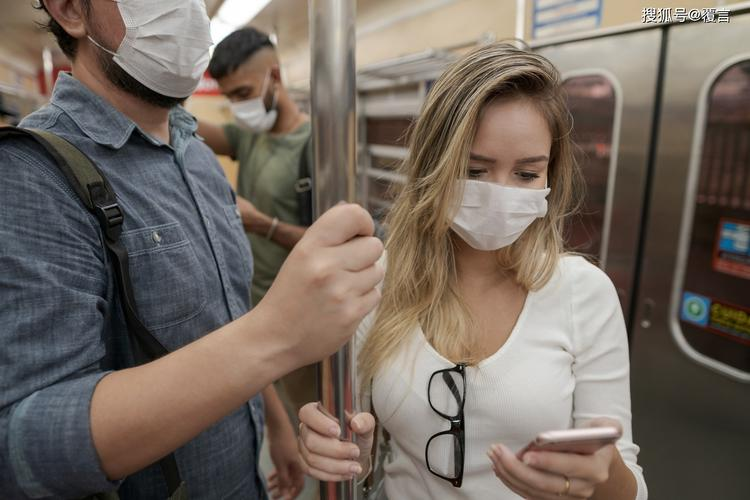mask: (438, 92, 555, 247)
